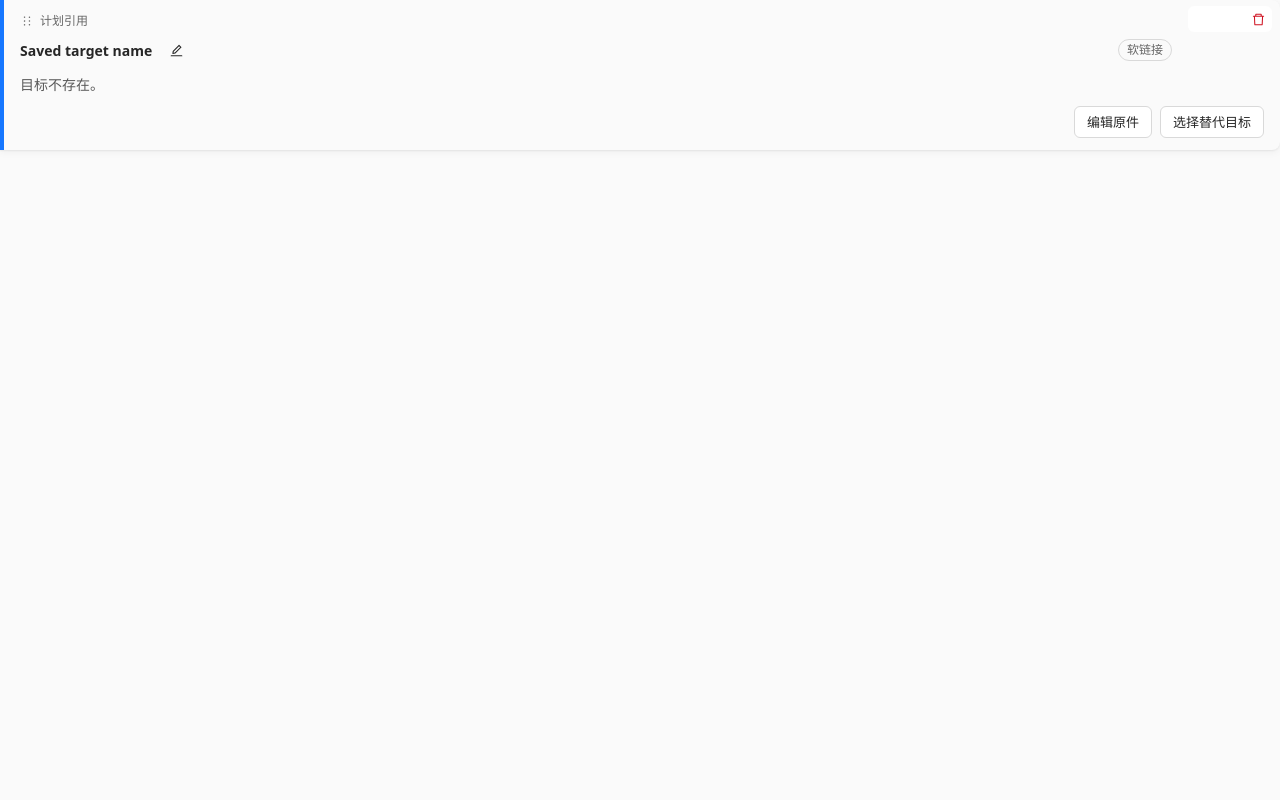
Test: PlanReferenceCard › offers an in-place replacement picker for a missing reference
Check: the text "目标不存在。" is shown, box [20,75,104,94]
Click the button "选择替代目标".
click(1212, 122)  # box [1160,106,1264,138]
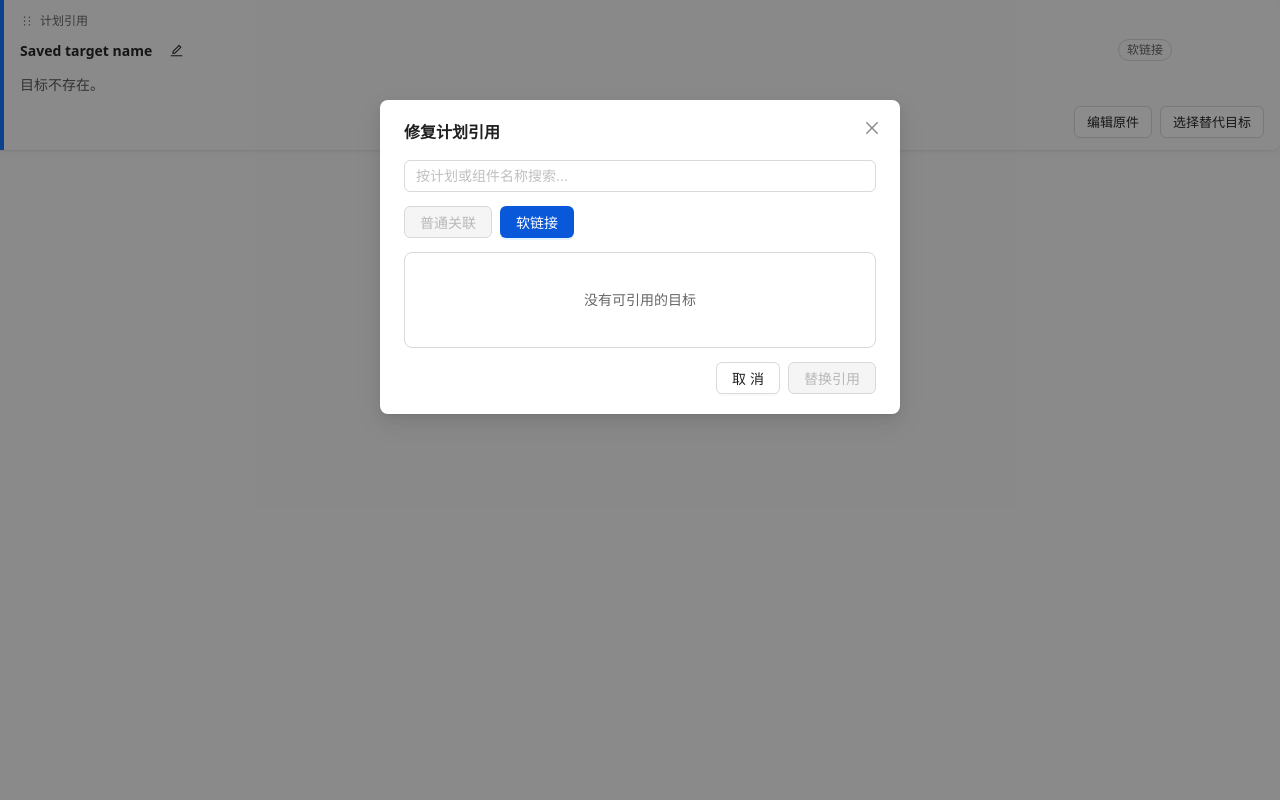
Check: the dialog shows "修复计划引用", box [404,122,500,142]
Check: the button "普通关联" is disabled, box [404,206,492,238]
